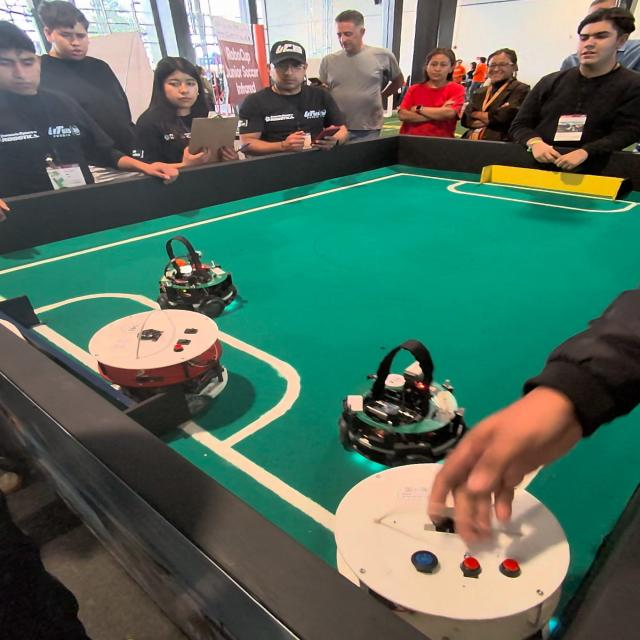Robot: (331, 451, 572, 631), (336, 329, 464, 476), (83, 306, 249, 417), (158, 235, 246, 319)
